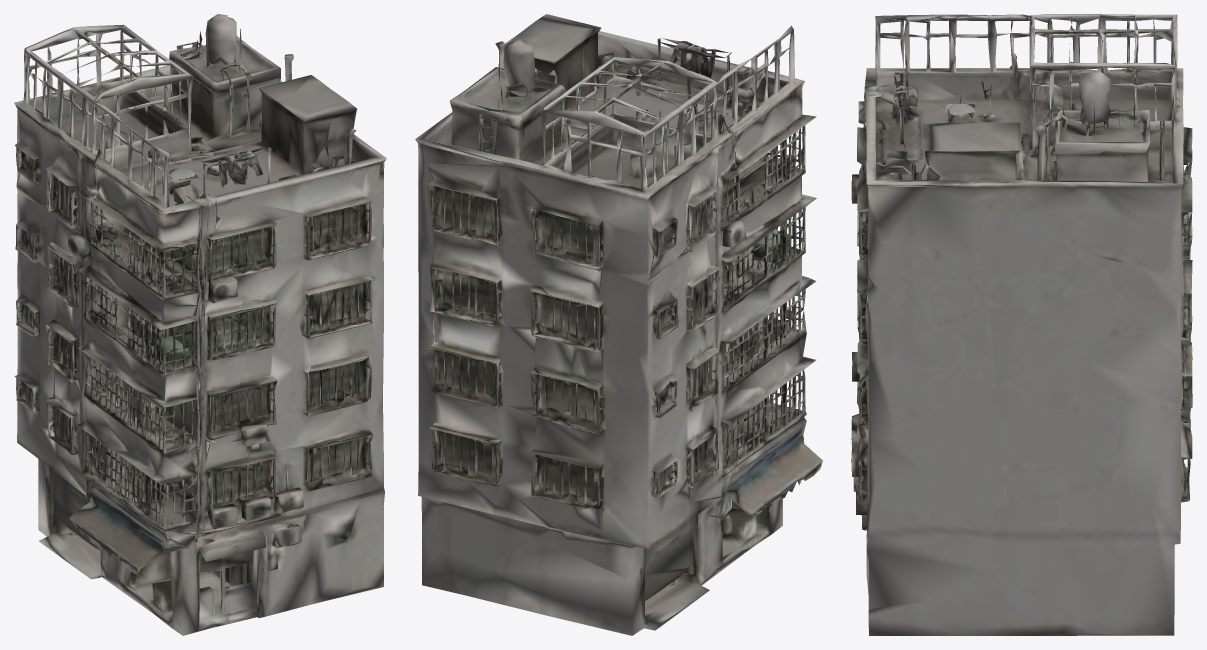
Rendered from upload-2cd.glb.
The picture shows the model from 3 angles, left to right: view 1: azimuth 30°, elevation 25°; view 2: azimuth 150°, elevation 25°; view 3: azimuth 270°, elevation 25°; orthographic projection. The views are drawn at different scales.
Parts seen in each view (by area): view 1: tripo_node_2cd653c0-b6d2-40ae-abf1-8d023de54f7e; view 2: tripo_node_2cd653c0-b6d2-40ae-abf1-8d023de54f7e; view 3: tripo_node_2cd653c0-b6d2-40ae-abf1-8d023de54f7e.
Part boxes in pixels (bbox=[...]): tripo_node_2cd653c0-b6d2-40ae-abf1-8d023de54f7e: bbox=[14, 14, 386, 635]; tripo_node_2cd653c0-b6d2-40ae-abf1-8d023de54f7e: bbox=[415, 14, 822, 635]; tripo_node_2cd653c0-b6d2-40ae-abf1-8d023de54f7e: bbox=[851, 14, 1192, 635].
Bounding box in the file's own units: 0.5042 × 0.9977 × 0.5763.
Materials: 1 (1 with a texture image).
